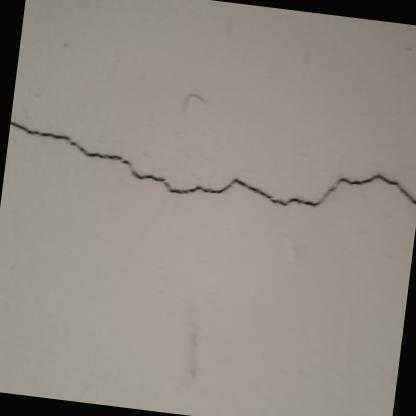crack: (9, 119, 416, 205)
